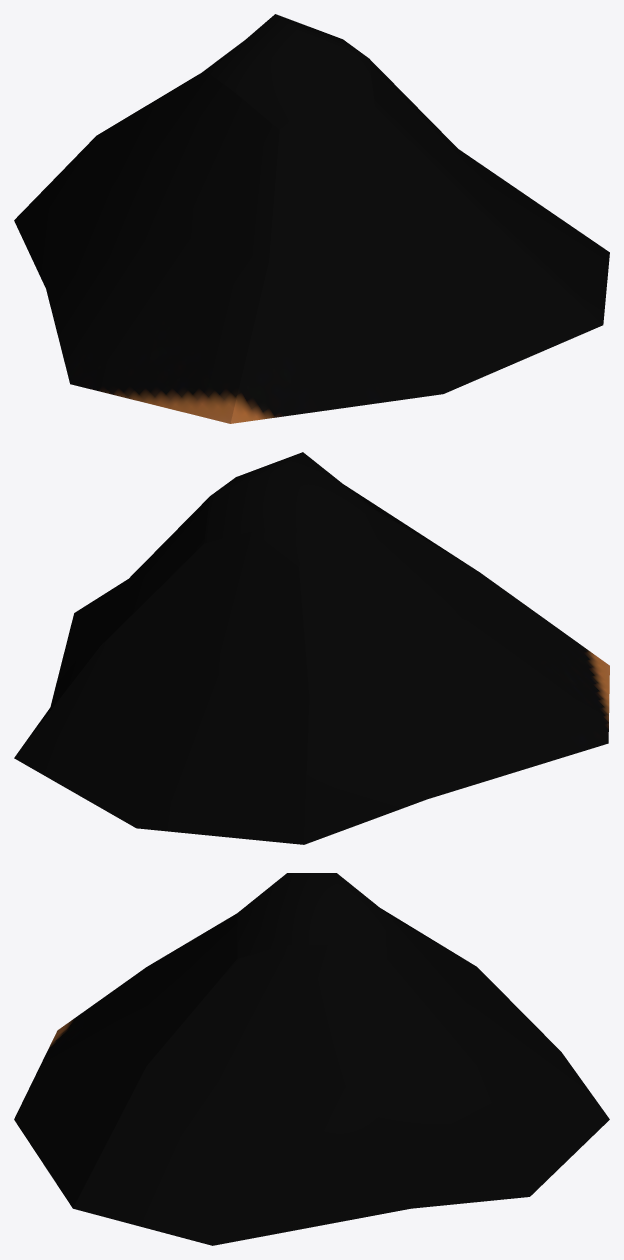
Rendered from Gold Pile.FBX.
3 views of the same model, one above another, from view 1: azimuth 30°, elevation 25°; view 2: azimuth 150°, elevation 25°; view 3: azimuth 270°, elevation 25° (orthographic). The views are drawn at different scales.
Visible parts, largest first — view 1: Box033; view 2: Box033; view 3: Box033.
Part boxes in pixels (box(x1,y1,x2,y2)): Box033: box(14, 14, 609, 423); Box033: box(14, 452, 609, 844); Box033: box(14, 873, 609, 1245).
Size of the model in its own units: 84.09 by 38.24 by 83.82.
